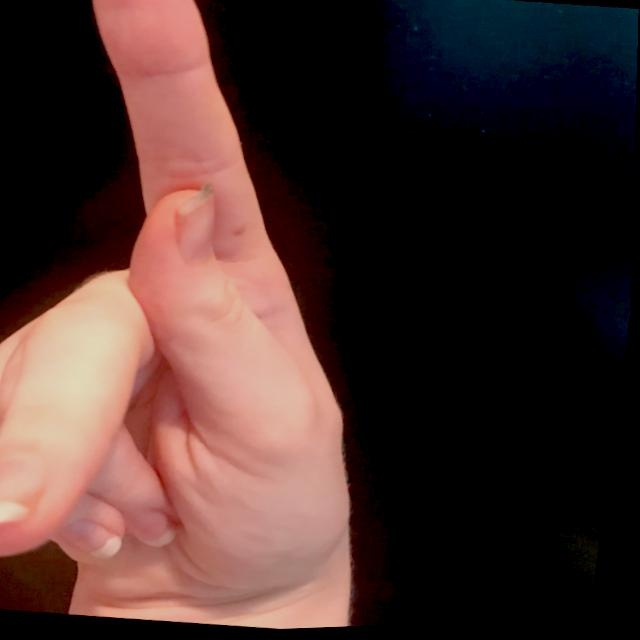P: (0, 0, 439, 629)
